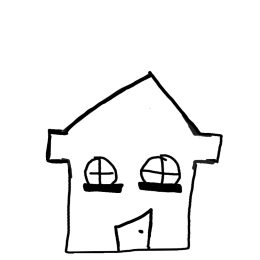bottom_placed_house: (1, 1, 260, 260)
closed_window: (133, 147, 187, 195), (81, 151, 123, 197)
door: (105, 207, 160, 256)
single_line_roof: (28, 67, 233, 167)
wall: (62, 145, 200, 257)
